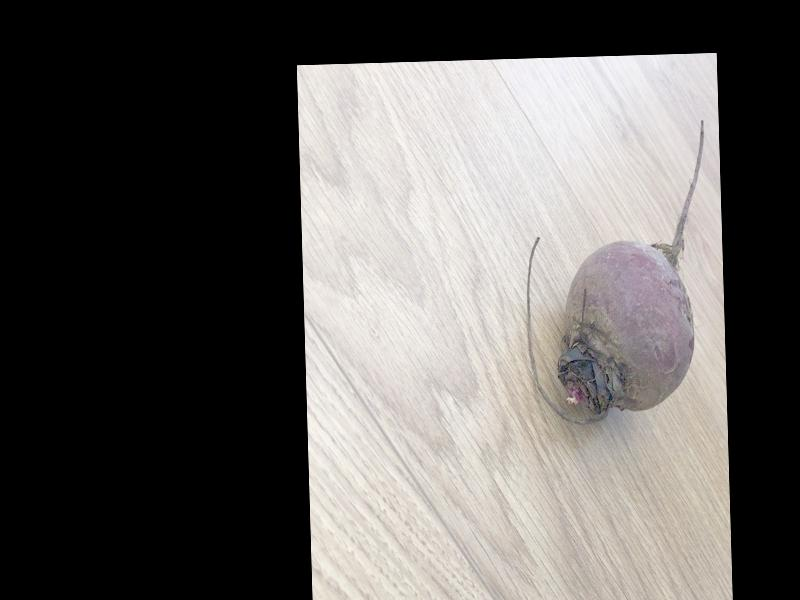Beet: (521, 119, 712, 423)
